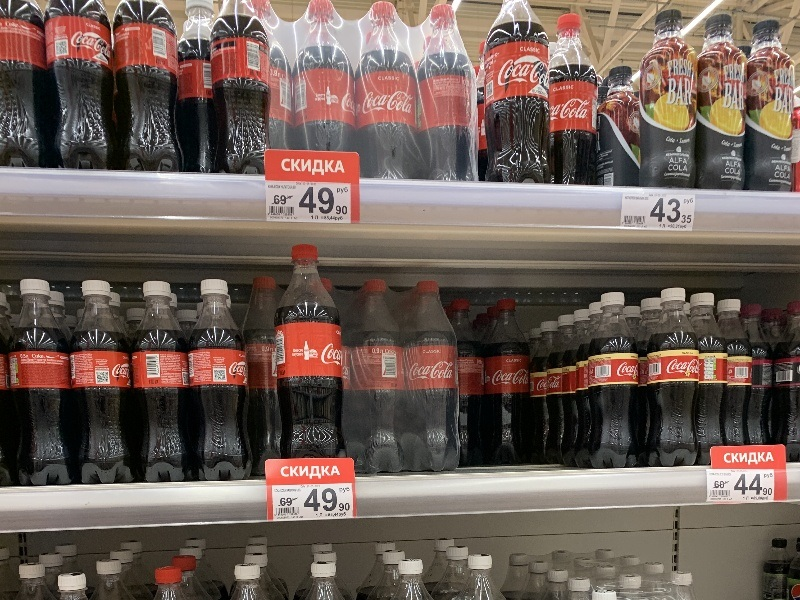lemonade: (267, 240, 350, 465), (180, 277, 257, 490), (124, 277, 201, 489), (480, 1, 560, 194), (66, 277, 137, 492), (7, 278, 76, 489), (642, 287, 704, 474), (586, 290, 648, 476), (478, 295, 534, 474)
